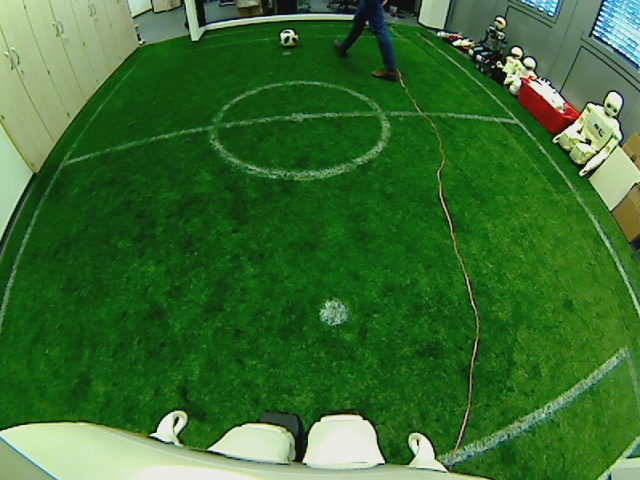ball: (279, 28, 299, 48)
